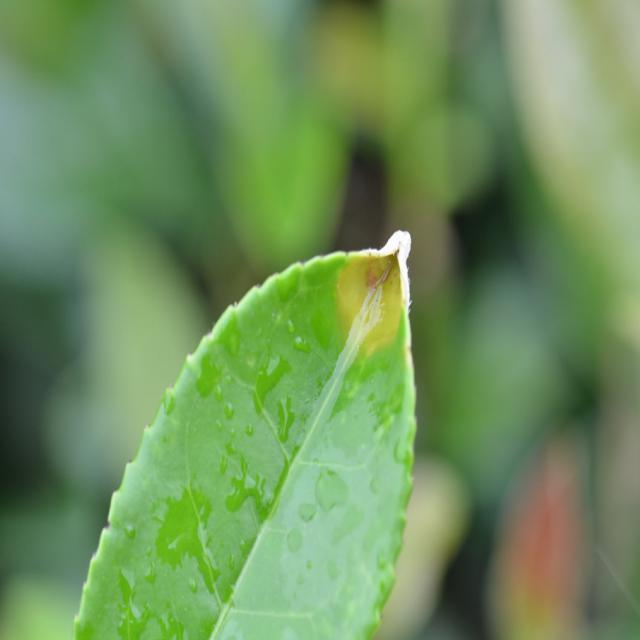Tea cake: (338, 214, 455, 365)
